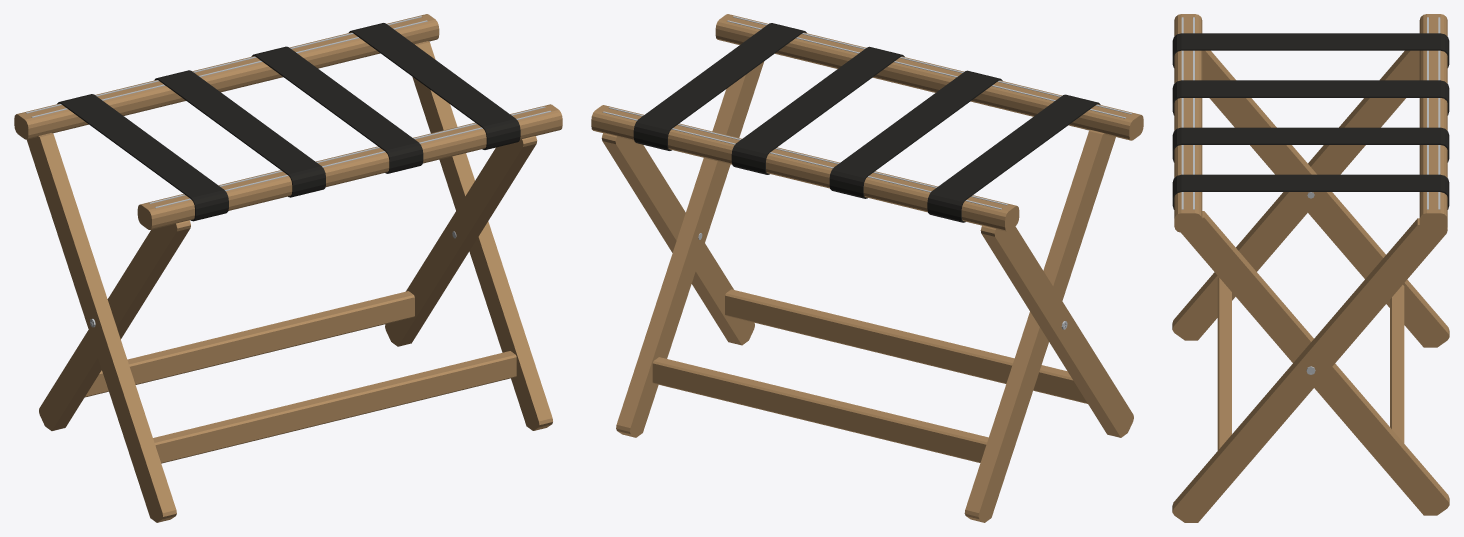
File: NEW571_luggage_rack_LOD1.glb
3 renders of one model, left to right at view 1: azimuth 30°, elevation 25°; view 2: azimuth 150°, elevation 25°; view 3: azimuth 270°, elevation 25°, orthographic.
Visible parts, largest first — view 1: NEW571_Complete_Luggage_Rack_LOD1; view 2: NEW571_Complete_Luggage_Rack_LOD1; view 3: NEW571_Complete_Luggage_Rack_LOD1.
Boxes of the visible parts, x1,y1,x2,y2 form: NEW571_Complete_Luggage_Rack_LOD1: (14,14,562,522); NEW571_Complete_Luggage_Rack_LOD1: (591,14,1143,522); NEW571_Complete_Luggage_Rack_LOD1: (1172,14,1449,522).
Size of the model in its own units: 0.655 by 0.485 by 0.385.
